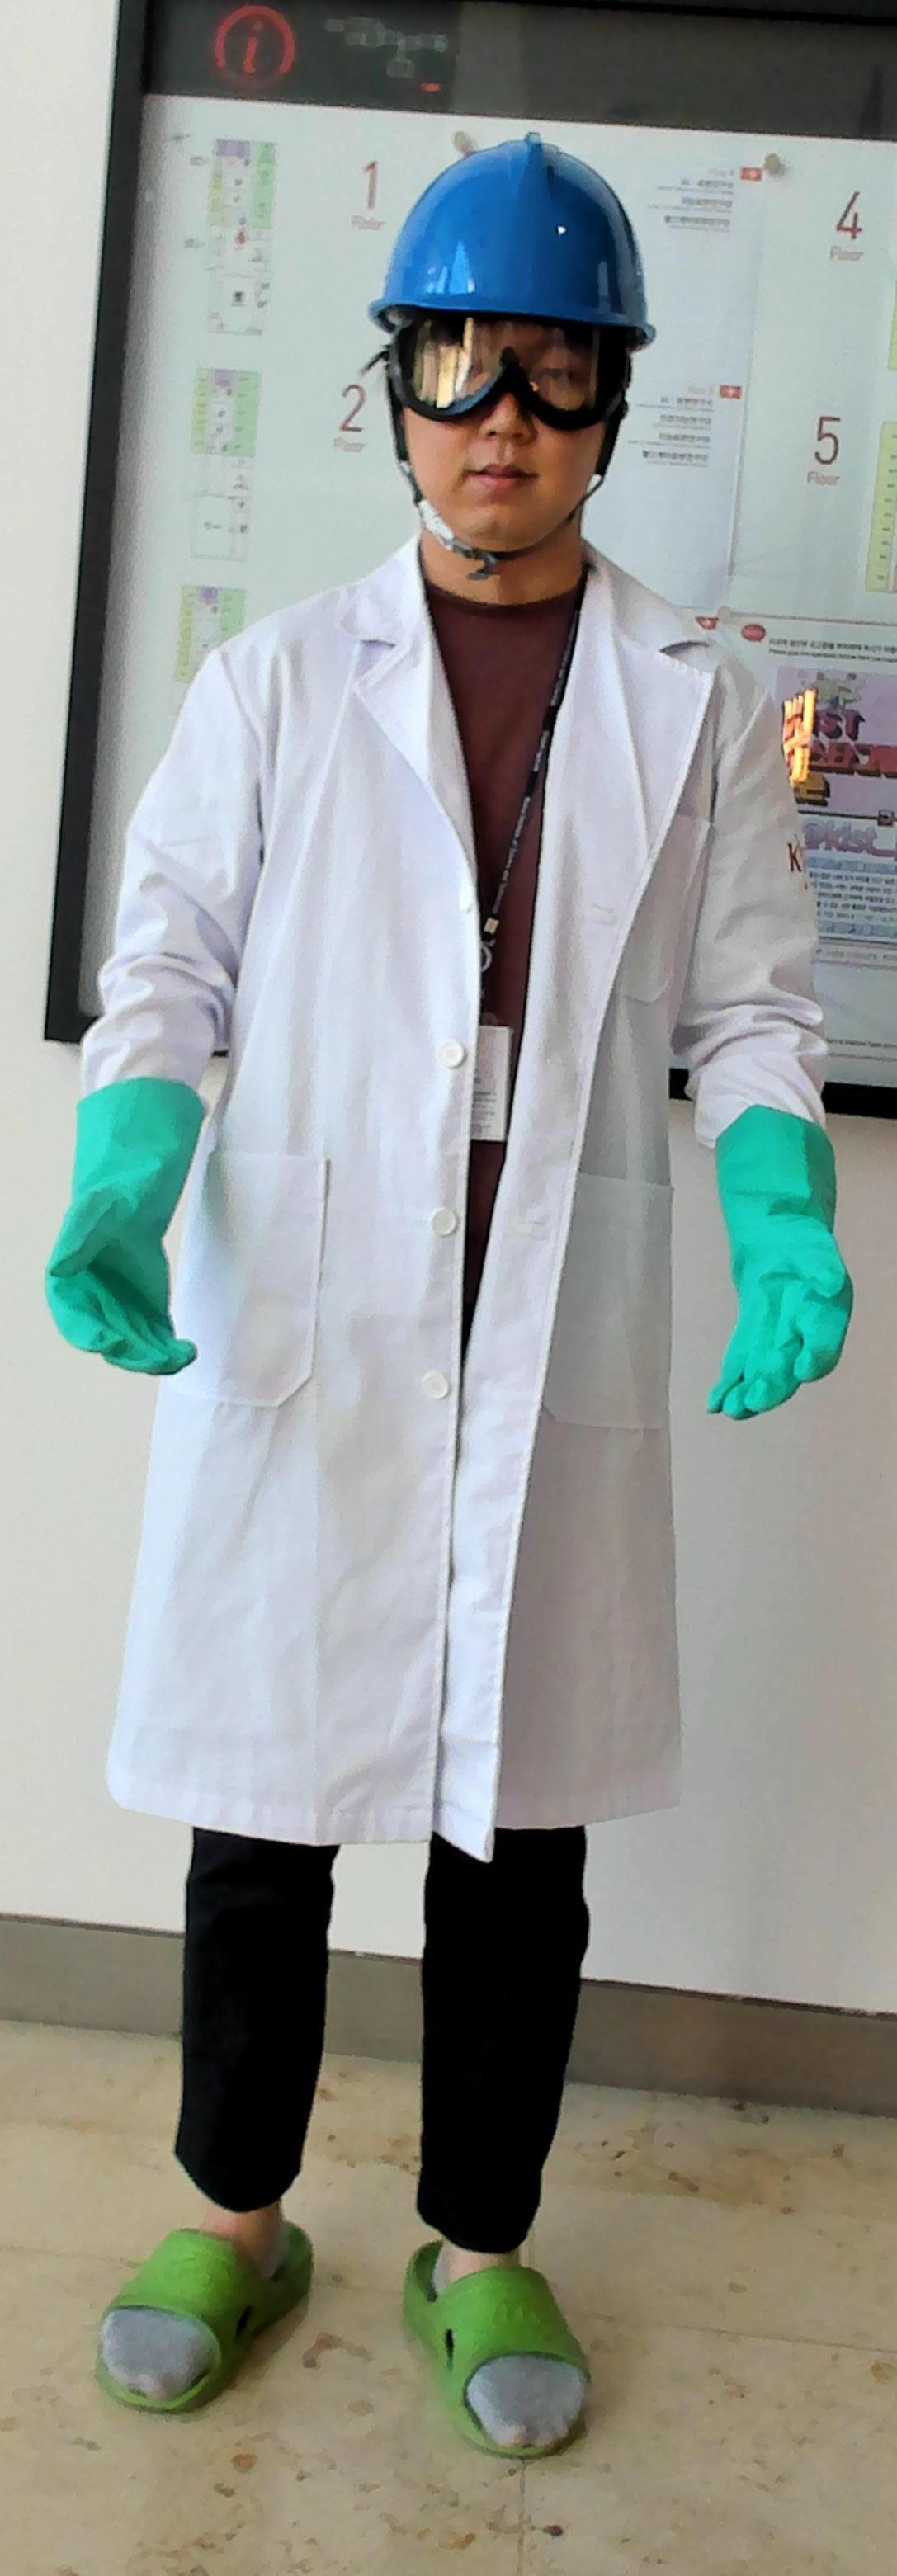lab_coat: (194, 669, 703, 1822)
